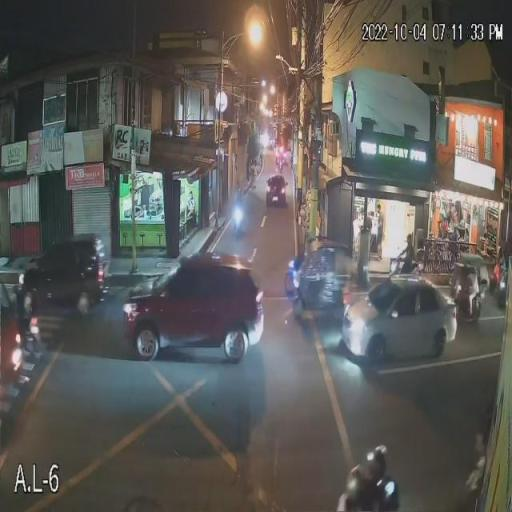helmet: (402, 230, 419, 247)
motorcycle: (388, 256, 431, 278)
rider: (397, 244, 418, 274)
